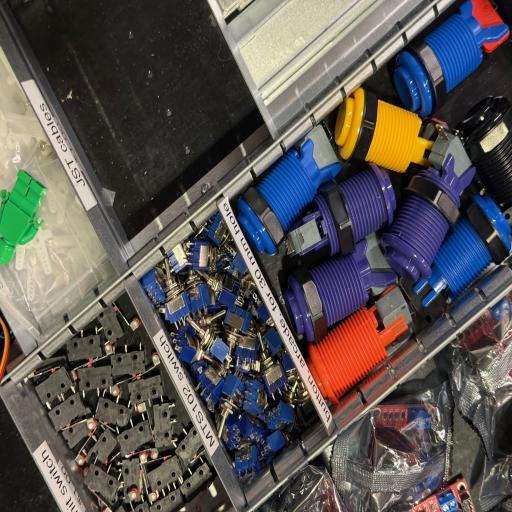Lego-Dude: (0, 169, 47, 264)
